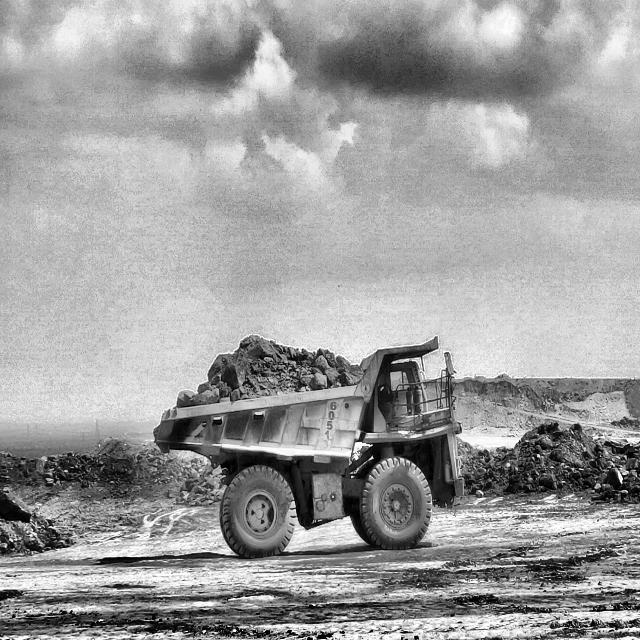dump_truck: (148, 342, 464, 561)
